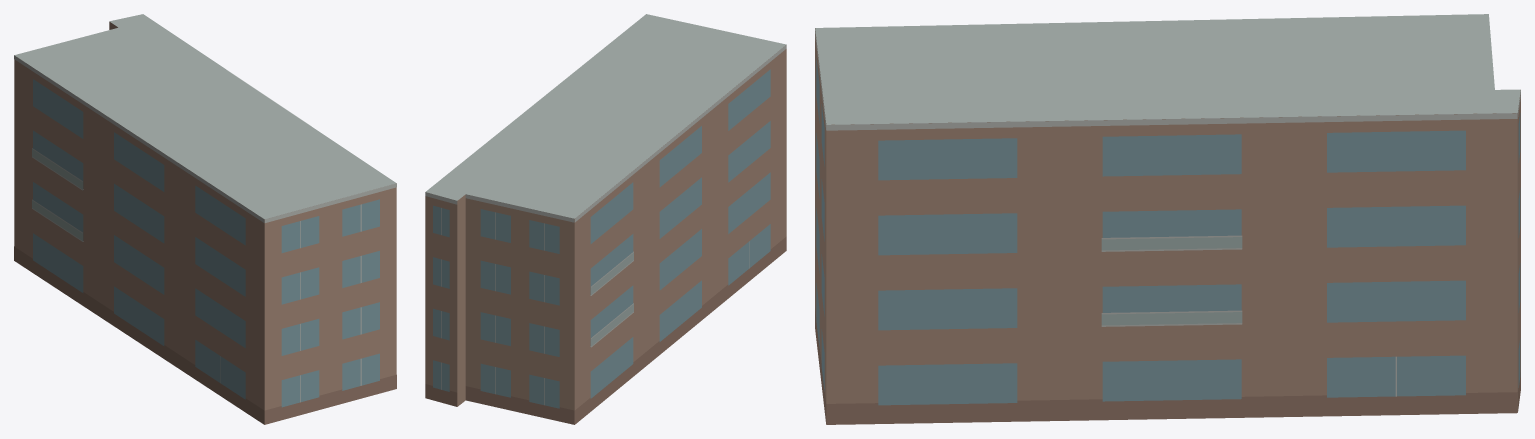
The model's file is survey-upis-32755467.glb.
The picture shows the model from 3 angles, left to right: view 1: azimuth 30°, elevation 25°; view 2: azimuth 150°, elevation 25°; view 3: azimuth 270°, elevation 25°; orthographic projection. The views are drawn at different scales.
Parts seen in each view (by area): view 1: survey-upis-32755467.tmp; view 2: survey-upis-32755467.tmp; view 3: survey-upis-32755467.tmp.
Boxes of the visible parts, x1,y1,x2,y2 form: survey-upis-32755467.tmp: (14, 14, 396, 424); survey-upis-32755467.tmp: (425, 14, 786, 424); survey-upis-32755467.tmp: (815, 14, 1520, 424).
Size of the model in its own units: 10 by 12.6 by 26.87.
